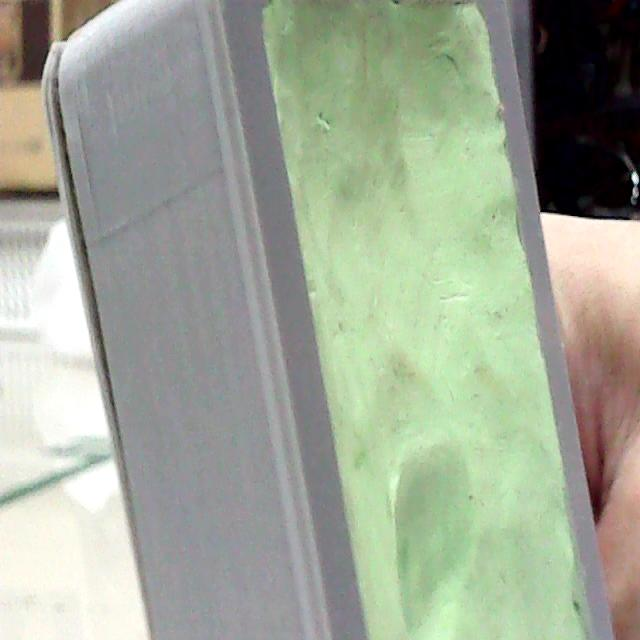block: (51, 0, 611, 640)
